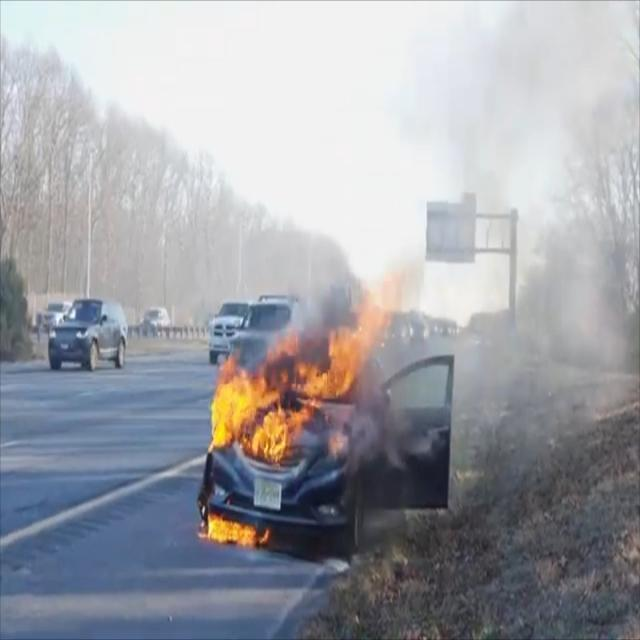fire: (195, 279, 394, 554)
